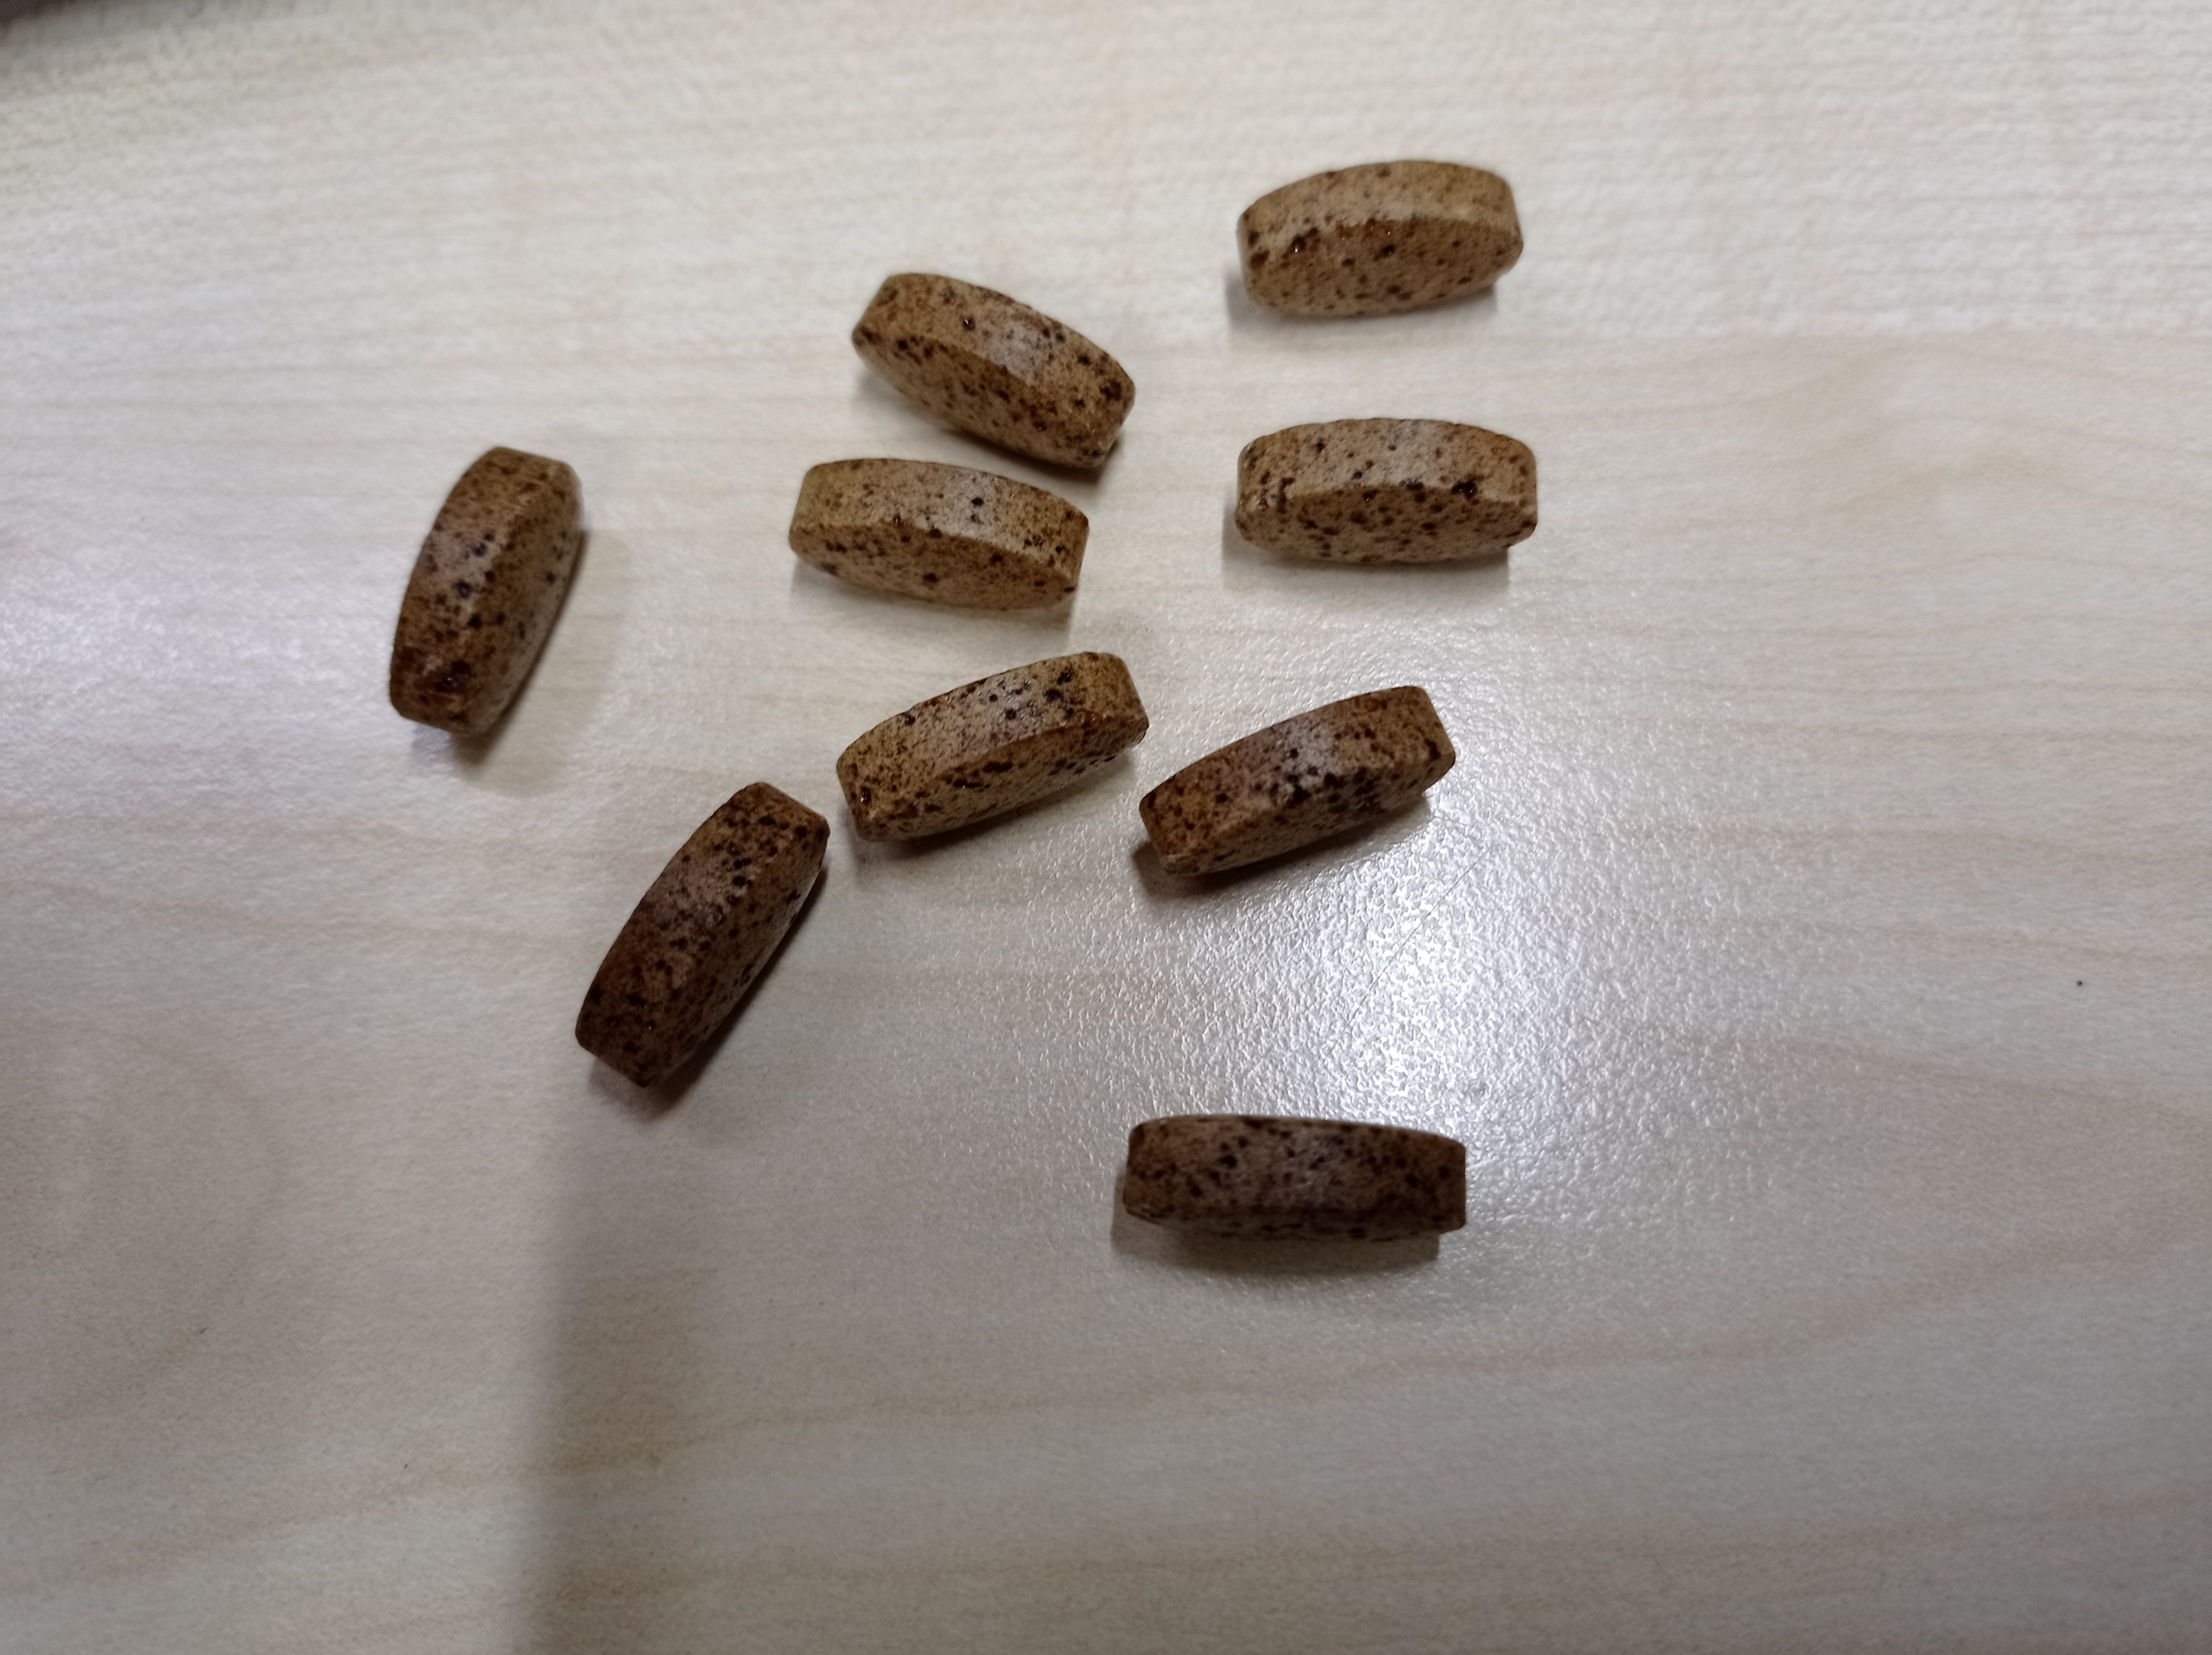brown_medicine: (573, 779, 832, 1092), (1140, 685, 1456, 881), (838, 652, 1150, 850), (851, 273, 1135, 475), (389, 443, 579, 744), (1237, 417, 1540, 577), (1119, 1114, 1470, 1252), (784, 459, 1093, 608), (1239, 162, 1526, 322)
